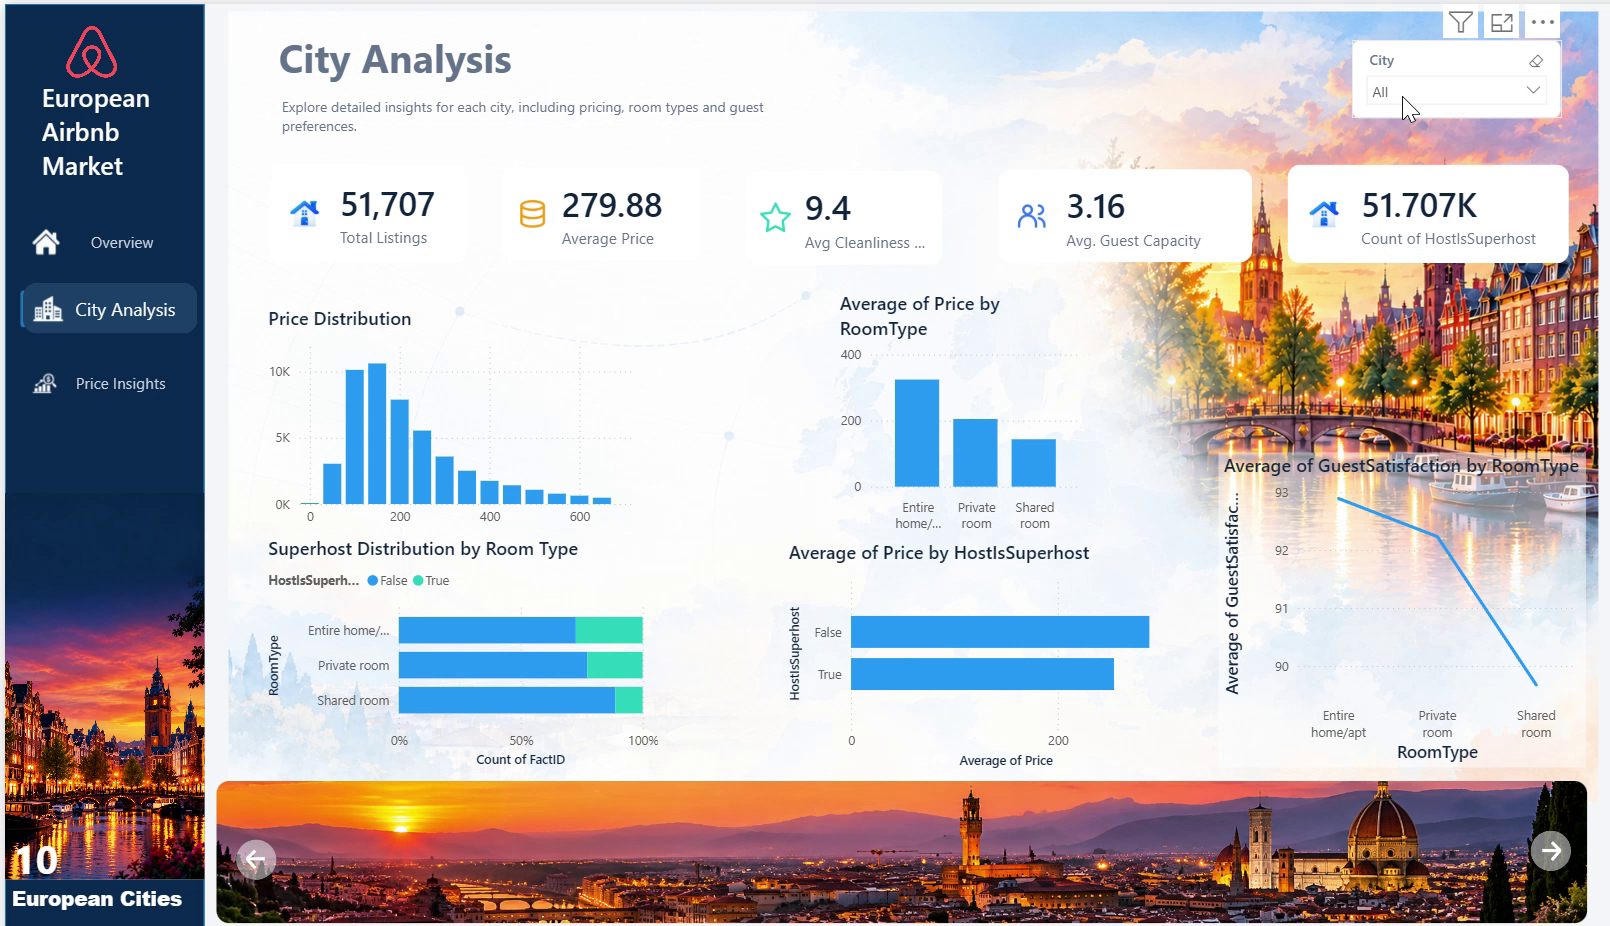

The dashboard page shown, as its layout file describes it:
{"tool":"powerbi","page":{"name":"City Analysis","canvas":[1600,900],"ordinal":1},"visuals":[{"type":"image","box":[213.3,6.7,1304.7,752.7],"z":0},{"type":"shape","box":[0,0,190,900],"z":1000},{"type":"textbox","box":[30,66.9,128.1,150],"z":2000},{"type":"shape","box":[11,272.5,12.5,35],"z":3000},{"type":"actionButton","box":[17.5,266,166,48],"z":4000},{"type":"actionButton","box":[17.5,204,158,44],"z":5000},{"type":"actionButton","box":[16.4,338.2,158.2,44.5],"z":7000},{"type":"image","box":[0,465.6,190,367.8],"z":9000},{"type":"textbox","box":[2.2,783.3,56.7,67.8],"z":10000},{"type":"textbox","box":[1.1,833.3,188.9,66.7],"z":11000},{"type":"image","box":[201.2,740,1305,135],"z":12000},{"type":"actionButton","box":[1452.5,787.5,38.8,38.8],"z":13000},{"type":"textbox","box":[255,20,720,68.8],"z":14000},{"type":"textbox","box":[258.3,82.9,535,53.8],"z":15000},{"type":"slicer","fields":{"Values":["Airbnb_Gold_Master.RoomType"]},"box":[1293.3,35,198.3,75],"z":16000},{"type":"cardVisual","fields":{"Data":["Airbnb_Gold_Master.Total Listings Display"]},"box":[234,136,223,127],"z":17000},{"type":"cardVisual","fields":{"Data":["Airbnb_Gold_Master.Average Price"]},"box":[457,139,222,123],"z":18000},{"type":"cardVisual","fields":{"Data":["Airbnb_Gold_Master.Avg Cleanliness Display"]},"box":[689,142,221,124],"z":19000},{"type":"cardVisual","fields":{"Data":["Avg(Airbnb_Gold_Master.PersonCapacity)"]},"box":[928.3,140,276.7,123.3],"z":20000},{"type":"cardVisual","fields":{"Data":["CountNonNull(Airbnb_Gold_Master.HostIsSuperhost)"]},"box":[1204,136,302,128],"z":21000},{"type":"clusteredColumnChart","title":"Price Distribution","fields":{"Category":["Airbnb_Gold_Master.Price (bins)"],"Y":["CountNonNull(Airbnb_Gold_Master.FactID)"]},"box":[246.2,287.5,360,218.8],"z":22000},{"type":"clusteredColumnChart","fields":{"Category":["Airbnb_Gold_Master.RoomType"],"Y":["Avg(Airbnb_Gold_Master.Price)"]},"box":[790,272.5,240,237.5],"z":23000},{"type":"clusteredBarChart","fields":{"Category":["Airbnb_Gold_Master.HostIsSuperhost"],"Y":["Avg(Airbnb_Gold_Master.Price)"]},"box":[741.4,510,374.3,222.9],"z":24000},{"type":"lineChart","fields":{"Category":["Airbnb_Gold_Master.RoomType"],"Y":["Avg(Airbnb_Gold_Master.GuestSatisfaction)"]},"box":[1155.7,427.1,350,300],"z":25000},{"type":"hundredPercentStackedBarChart","title":"Superhost Distribution by Room Type","fields":{"Category":["Airbnb_Gold_Master.RoomType"],"Y":["CountNonNull(Airbnb_Gold_Master.FactID)"],"Series":["Airbnb_Gold_Master.HostIsSuperhost"]},"box":[246.2,506.2,381.2,226.2],"z":26000},{"type":"actionButton","box":[220,795,38.6,38.6],"z":27001},{"type":"image","box":[30,20,99.1,57.3],"z":27002}]}

Visuals, with their boxes on the page's 1600x900 design canvas (x1, y1, x2, y2). These are canvas units, not pixel positions in the 1610x926 screenshot, which may show the page scaled, cropped or inside an application window:
image: bbox=(213, 7, 1518, 759)
shape: bbox=(0, 0, 190, 900)
textbox: bbox=(30, 67, 158, 217)
shape: bbox=(11, 272, 24, 308)
actionButton: bbox=(18, 266, 184, 314)
actionButton: bbox=(18, 204, 176, 248)
actionButton: bbox=(16, 338, 175, 383)
image: bbox=(0, 466, 190, 833)
textbox: bbox=(2, 783, 59, 851)
textbox: bbox=(1, 833, 190, 900)
image: bbox=(201, 740, 1506, 875)
actionButton: bbox=(1452, 788, 1491, 826)
textbox: bbox=(255, 20, 975, 89)
textbox: bbox=(258, 83, 793, 137)
slicer - Airbnb_Gold_Master.RoomType: bbox=(1293, 35, 1492, 110)
cardVisual - Airbnb_Gold_Master.Total Listings Display: bbox=(234, 136, 457, 263)
cardVisual - Airbnb_Gold_Master.Average Price: bbox=(457, 139, 679, 262)
cardVisual - Airbnb_Gold_Master.Avg Cleanliness Display: bbox=(689, 142, 910, 266)
cardVisual - Avg(Airbnb_Gold_Master.PersonCapacity): bbox=(928, 140, 1205, 263)
cardVisual - CountNonNull(Airbnb_Gold_Master.HostIsSuperhost): bbox=(1204, 136, 1506, 264)
"Price Distribution" clusteredColumnChart: bbox=(246, 288, 606, 506)
clusteredColumnChart - Airbnb_Gold_Master.RoomType x Avg(Airbnb_Gold_Master.Price): bbox=(790, 272, 1030, 510)
clusteredBarChart - Airbnb_Gold_Master.HostIsSuperhost x Avg(Airbnb_Gold_Master.Price): bbox=(741, 510, 1116, 733)
lineChart - Airbnb_Gold_Master.RoomType x Avg(Airbnb_Gold_Master.GuestSatisfaction): bbox=(1156, 427, 1506, 727)
"Superhost Distribution by Room Type" hundredPercentStackedBarChart: bbox=(246, 506, 627, 732)
actionButton: bbox=(220, 795, 259, 834)
image: bbox=(30, 20, 129, 77)
